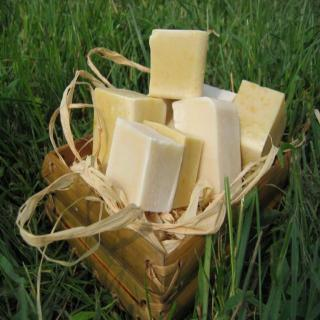Cheese: (91, 25, 285, 211)
